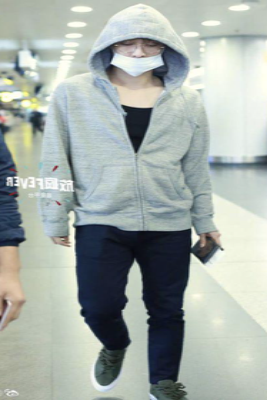mask_weared_incorrect: (108, 40, 165, 77)
